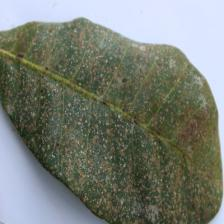red rust: (0, 16, 223, 223)
